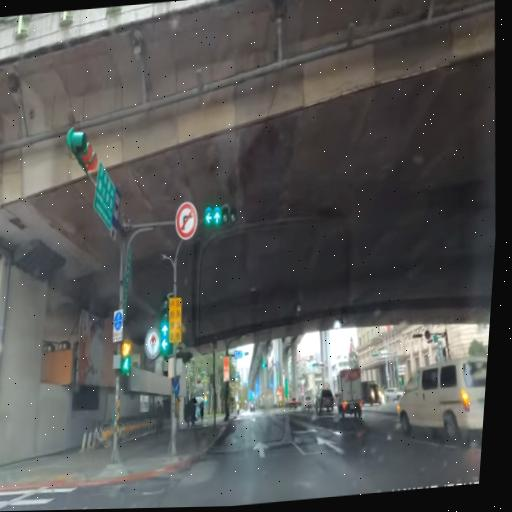Car: (389, 352, 488, 448), (332, 364, 369, 427), (353, 378, 382, 410), (310, 386, 337, 416), (383, 382, 407, 410), (249, 403, 256, 412)
